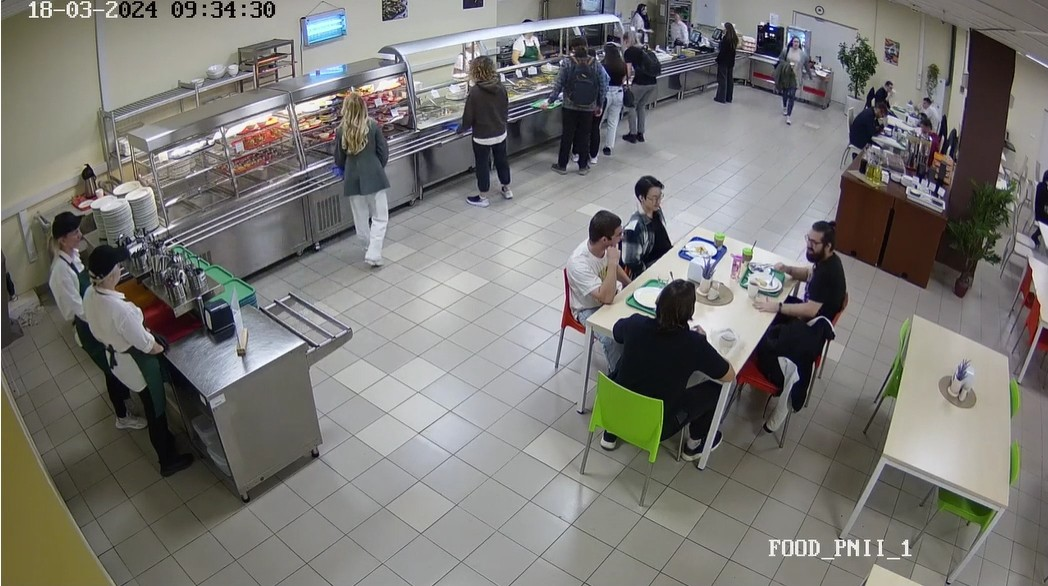Na_Kasse: (777, 32, 807, 123), (707, 20, 740, 98)
Ne_v_Ocheredi: (1030, 150, 1048, 254)
Personal: (66, 248, 203, 486), (36, 205, 149, 434), (509, 13, 550, 61), (457, 27, 490, 67), (666, 9, 690, 47), (634, 6, 653, 26)
Vybiraet: (329, 83, 391, 272), (450, 53, 520, 200), (545, 37, 596, 174), (619, 26, 654, 150), (595, 37, 622, 166)
Za_Stolom: (577, 276, 723, 478), (767, 210, 852, 321), (565, 208, 635, 331), (624, 177, 673, 259), (839, 100, 890, 167), (914, 113, 945, 155), (873, 75, 900, 102), (915, 85, 938, 113)
